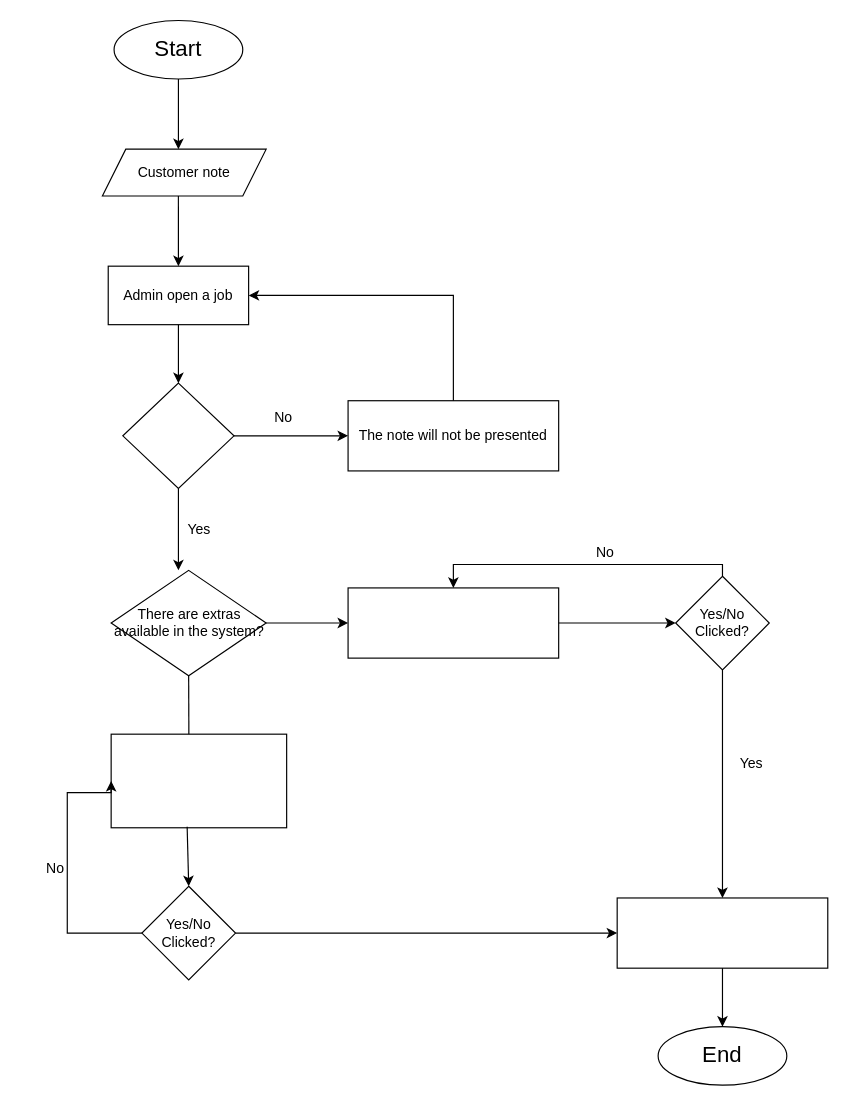
Image size: 848x1106. Some labels were removed from this diagram. The centre of each missing label's shape, as x and y in pixels:
Book status?: the point at 178,435
Collect a note in sale question: the point at 722,932
Note will be presented: the point at 453,622
Note will be presented with suggestion to adding extras into quote: the point at 198,780
